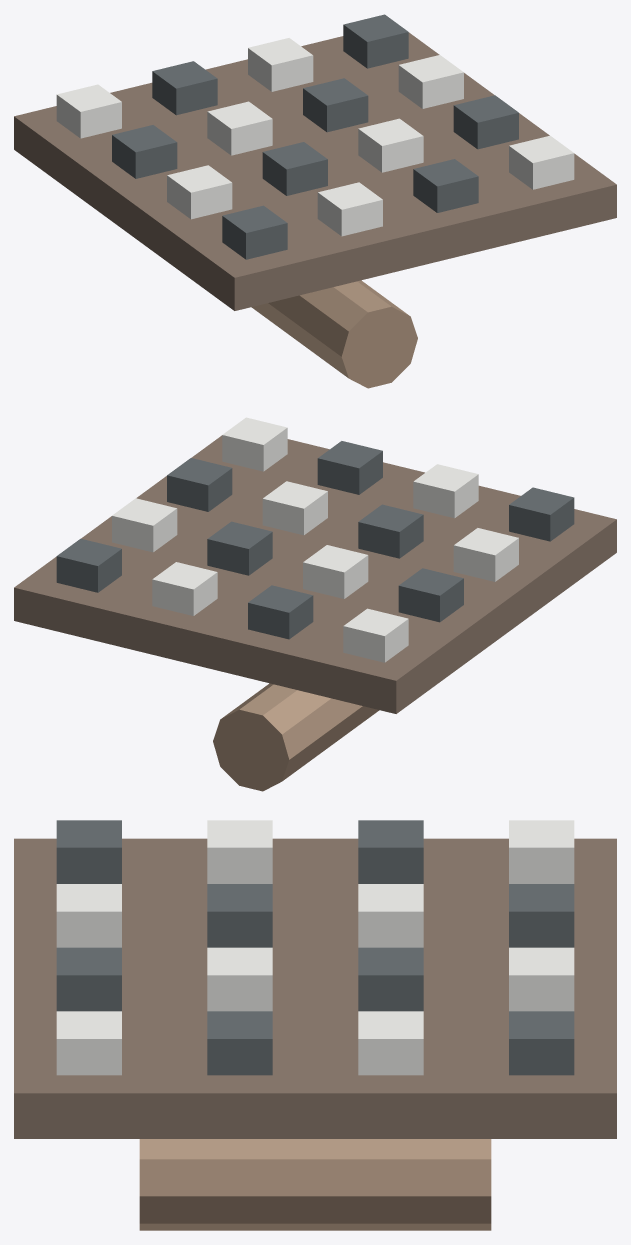
Rendered from chess_table.glb.
3 views of the same model, one above another, from view 1: azimuth 30°, elevation 25°; view 2: azimuth 150°, elevation 25°; view 3: azimuth 270°, elevation 25° (orthographic). The views are drawn at different scales.
Visible parts, largest first — view 1: part_01, part_00, part_05, part_17, part_02, part_08, part_09, part_12, part_14, part_16, part_06, part_07 (+6 smaller); view 2: part_01, part_00, part_02, part_14, part_05, part_06, part_07, part_11, part_15, part_17, part_08, part_09 (+6 smaller); view 3: part_01, part_00, part_11, part_12, part_15, part_16, part_14, part_17, part_10, part_13, part_02, part_03 (+6 smaller).
Part boxes in pixels (box(x1,y1,x2,y2)): part_01: box(14, 32, 616, 310); part_00: box(251, 280, 417, 388); part_05: box(222, 205, 287, 259); part_17: box(509, 135, 574, 189); part_02: box(56, 84, 121, 138); part_08: box(262, 142, 327, 195); part_09: box(317, 182, 382, 236); part_12: box(358, 118, 423, 172); part_14: box(343, 14, 408, 68); part_16: box(453, 95, 518, 149); part_06: box(152, 61, 217, 115); part_07: box(207, 101, 272, 155); part_01: box(14, 435, 616, 713); part_00: box(213, 683, 379, 791); part_02: box(343, 608, 408, 662); part_14: box(56, 538, 121, 592); part_05: box(509, 487, 574, 541); part_06: box(248, 585, 313, 639); part_07: box(303, 545, 368, 598); part_11: box(207, 521, 272, 575); part_15: box(112, 498, 177, 552); part_17: box(222, 417, 287, 471); part_08: box(358, 504, 423, 558); part_09: box(413, 464, 478, 518); part_01: box(14, 838, 616, 1138); part_00: box(139, 1139, 491, 1230); part_11: box(358, 947, 423, 1011); part_12: box(207, 947, 272, 1011); part_15: box(358, 1011, 423, 1075); part_16: box(207, 1011, 272, 1075); part_14: box(509, 1011, 574, 1075); part_17: box(56, 1011, 121, 1075); part_10: box(509, 947, 574, 1011); part_13: box(56, 947, 121, 1011); part_02: box(509, 820, 574, 883); part_03: box(358, 820, 423, 883).
Bounding box in the file's own units: 1.2 × 0.6441 × 1.2.
